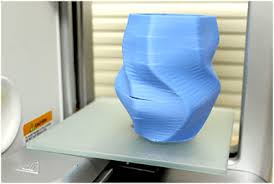crack: (122, 82, 160, 119)
